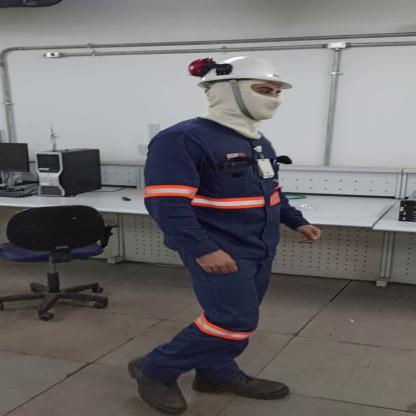Balaclava: (197, 81, 286, 140)
Capacete: (186, 52, 308, 89)
